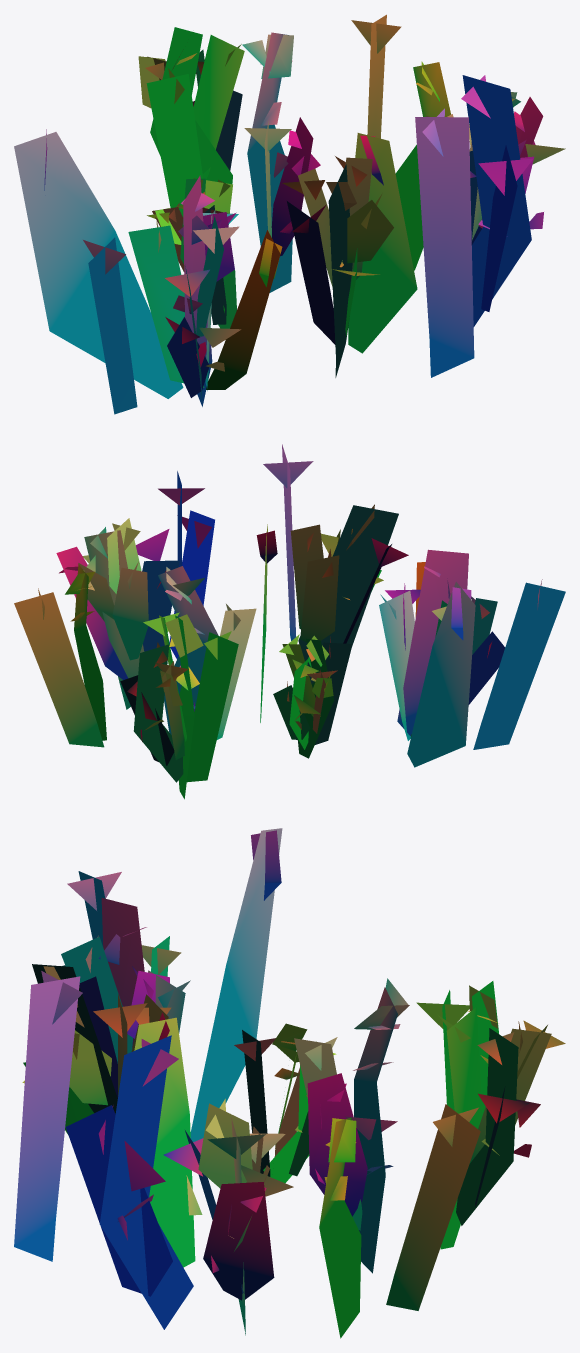
The model's file is Nordic_Coastal_Groundcover_vlqkdeaja_Mid_vlqkdeaja_VarL_LOD1.fbx.
3 renders of one model, top to bottom at view 1: azimuth 30°, elevation 25°; view 2: azimuth 150°, elevation 25°; view 3: azimuth 270°, elevation 25°, orthographic. The views are drawn at different scales.
Parts seen in each view (by area): view 1: _fghw_VarL_LOD3; view 2: _fghw_VarL_LOD3; view 3: _fghw_VarL_LOD3.
Boxes of the visible parts, <box> form: _fghw_VarL_LOD3: <box>14,14,565,414</box>; _fghw_VarL_LOD3: <box>14,444,565,799</box>; _fghw_VarL_LOD3: <box>14,828,565,1338</box>.
Size of the model in its own units: 82.12 by 41.88 by 66.44.
